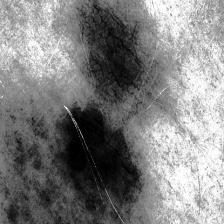Benign Marking or Mole: (56, 98, 154, 208)
